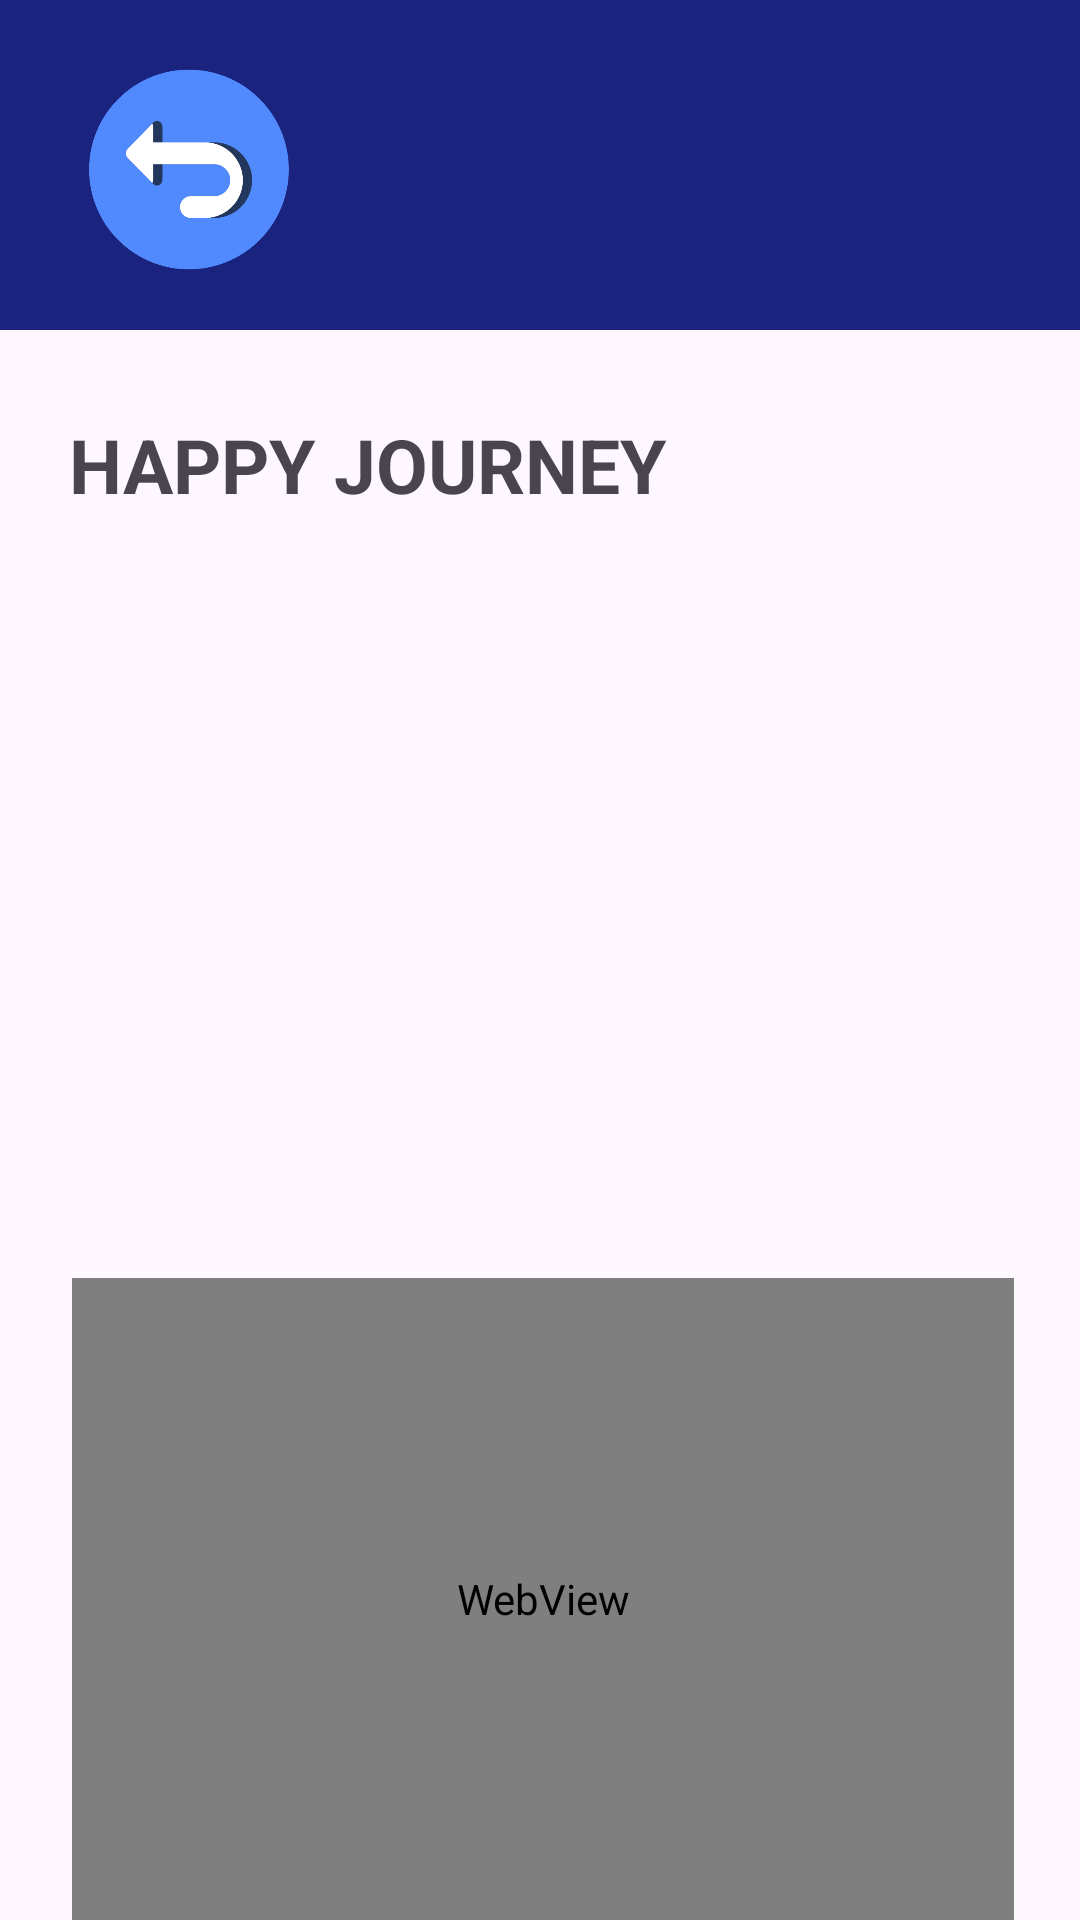

Icon bounding boxes for this 1080 × 1920 phone screenshot, format bbox(x1, y1, x2, y2):
back: bbox(89, 70, 289, 269)
